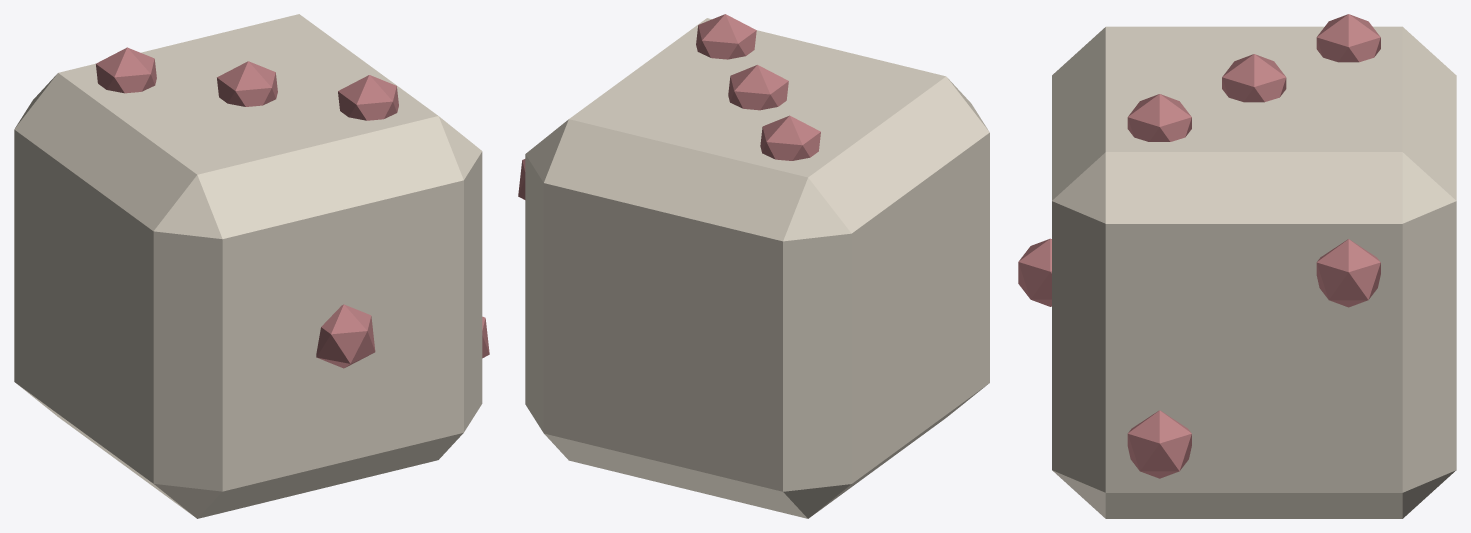
Rendered from sb_dice.glb.
The picture shows the model from 3 angles, left to right: view 1: azimuth 30°, elevation 25°; view 2: azimuth 150°, elevation 25°; view 3: azimuth 270°, elevation 25°; orthographic projection. The views are drawn at different scales.
Visible parts, largest first — view 1: dice; view 2: dice; view 3: dice.
Boxes of the visible parts, x1,y1,x2,y2 form: dice: (14,14,489,518); dice: (518,14,989,518); dice: (1018,14,1456,518).
Bounding box in the file's own units: 0.326 × 0.329 × 0.3248.
